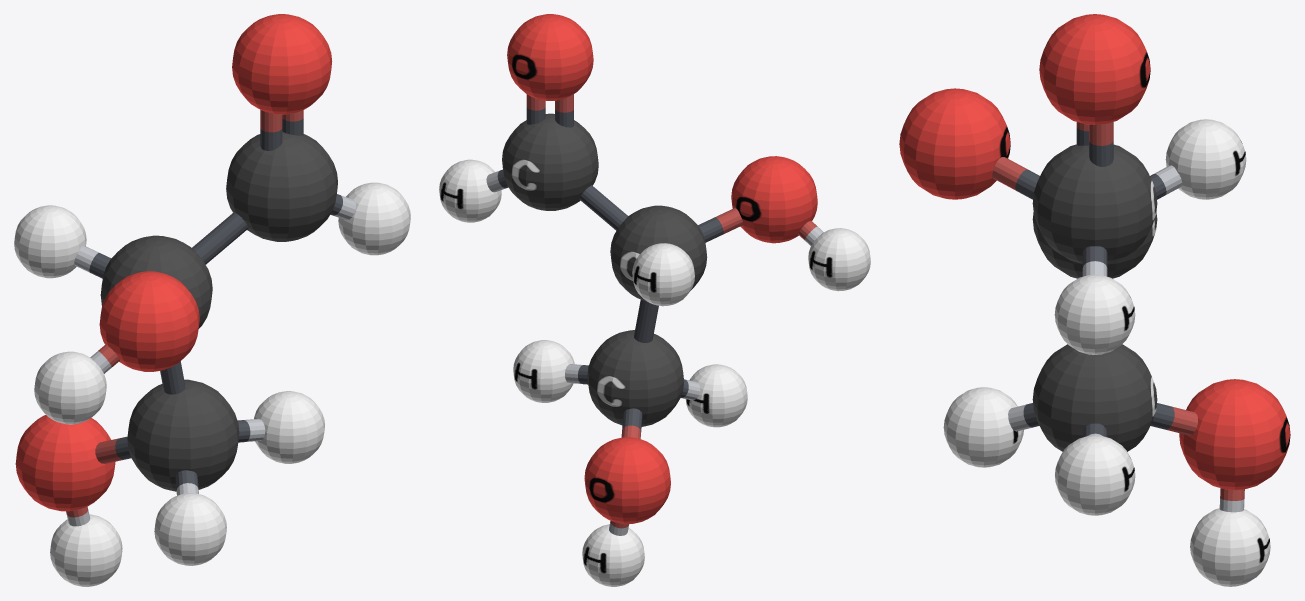
Rendered from Triosa.fbx.
The picture shows the model from 3 angles, left to right: view 1: azimuth 30°, elevation 25°; view 2: azimuth 150°, elevation 25°; view 3: azimuth 270°, elevation 25°; orthographic projection. The views are drawn at different scales.
Visible parts, largest first — view 1: Shape_Sphere.021; view 2: Shape_Sphere.021; view 3: Shape_Sphere.021.
Boxes of the visible parts, left/top/right/bottom form: Shape_Sphere.021: left=14, top=14, right=410, bottom=586; Shape_Sphere.021: left=439, top=14, right=870, bottom=586; Shape_Sphere.021: left=899, top=14, right=1290, bottom=586.
Size of the model in its own units: 11.17 by 14.37 by 8.
Materials: 6 (3 with a texture image).
